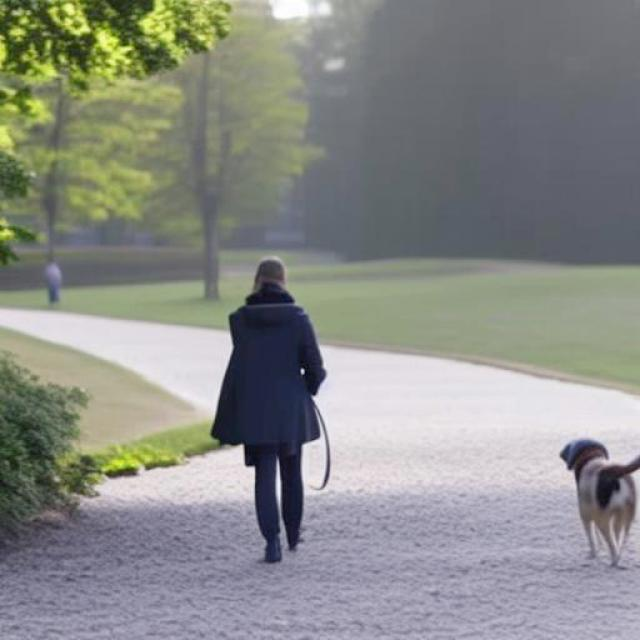Unleashed_Dog: (245, 382, 640, 568)
